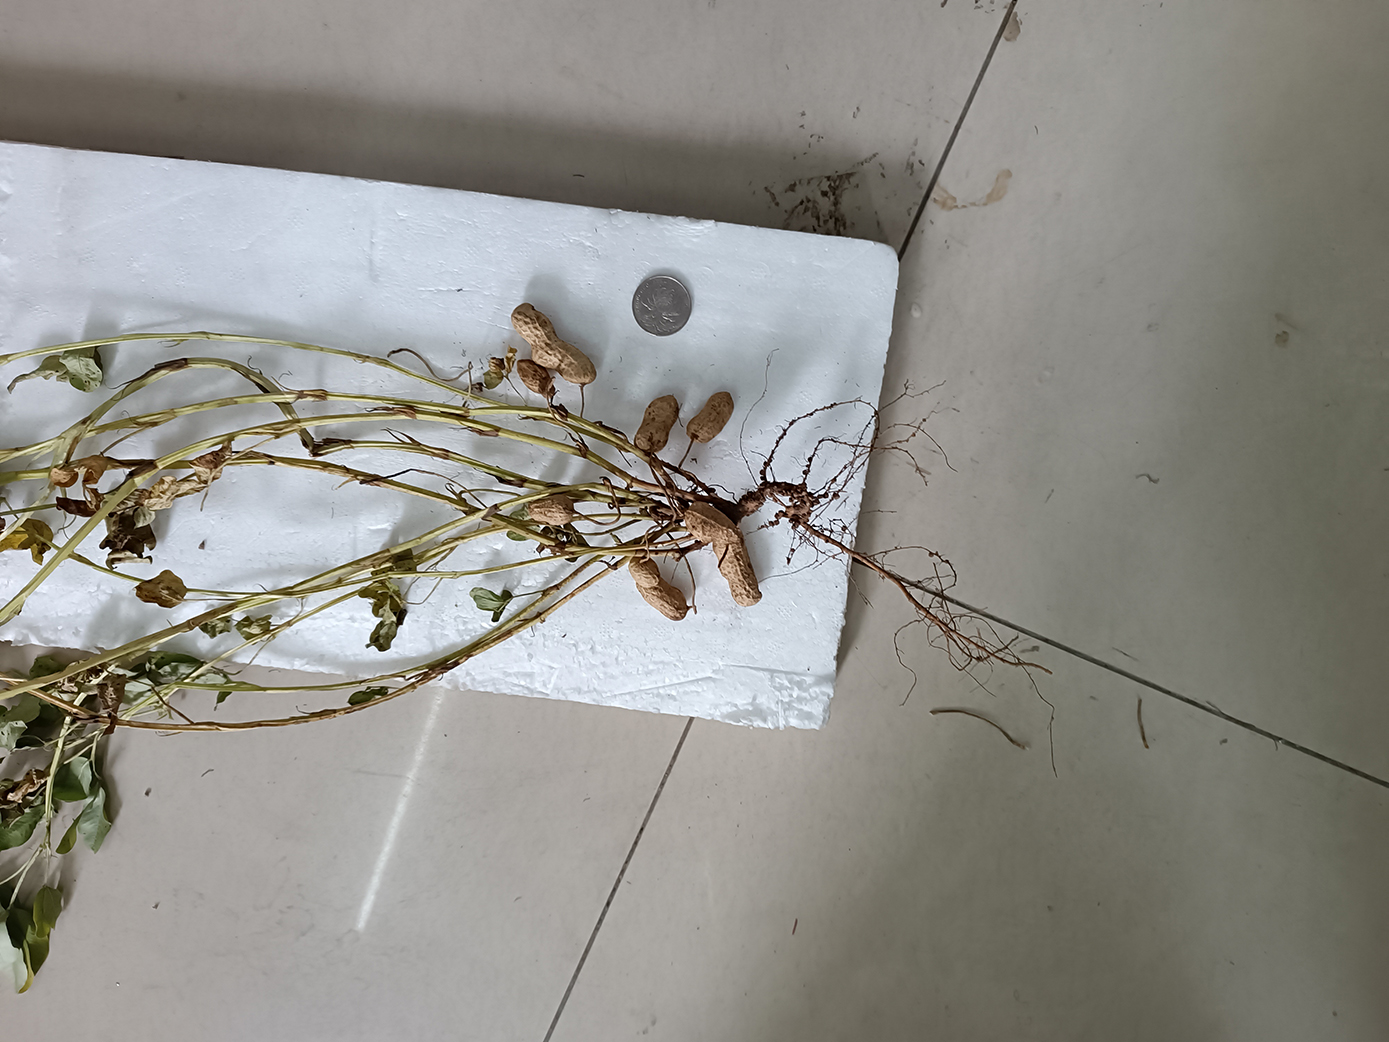h: (686, 500, 762, 606), (511, 300, 597, 384), (630, 556, 688, 620), (635, 395, 680, 453), (686, 392, 736, 444), (516, 360, 555, 396), (526, 496, 574, 525)
